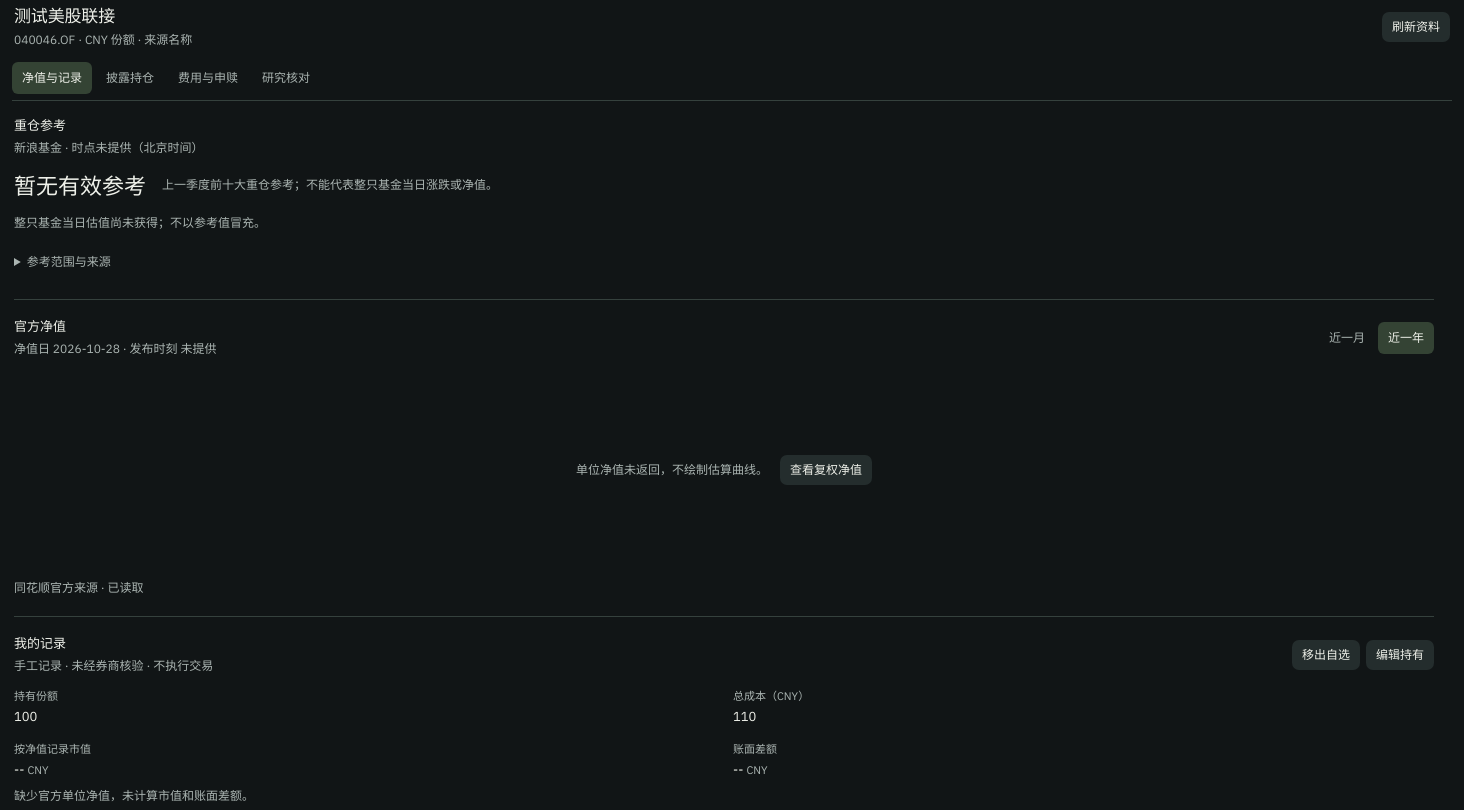
it: 基金真实阅读交互 › 只有复权净值时须明确切换口径，不能替代单位净值算持有市值
This screenshot has width=1464, height=810.
Click the button "查看复权净值".
click(826, 470)  # box [780, 455, 872, 485]
(page scrolled)
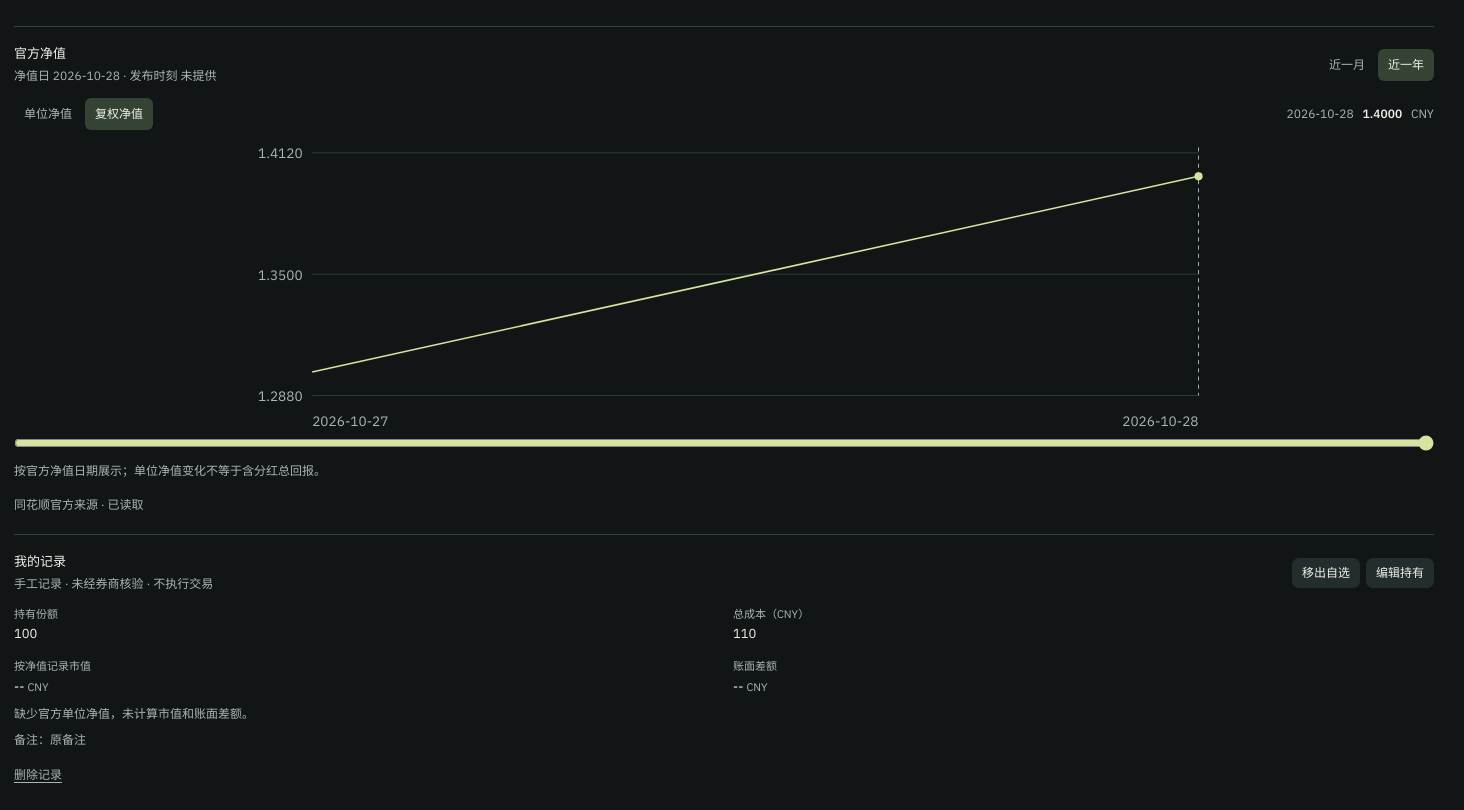
Expected: the picture named "复权净值曲线" is shown, [14, 131, 1434, 431]
